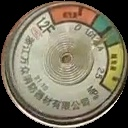green: (92, 13, 122, 45)
needle: (89, 30, 117, 52)
red: (50, 6, 100, 27)
yellow: (103, 44, 126, 94)
